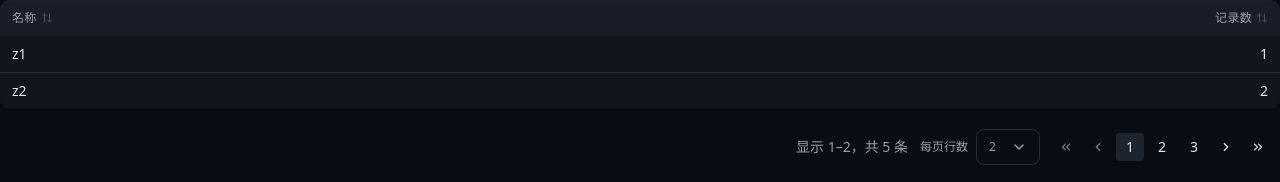
Test: DataTable — client pagination › slices rows locally and flipping the page swaps the visible rows
This screenshot has width=1280, height=182.
Check: the text "z1" is shown, box [0,36,584,72]
Check: the text "z2" is shown, box [0,72,584,109]
Click the button named "下一页": (1226, 147) [1212,133,1240,161]
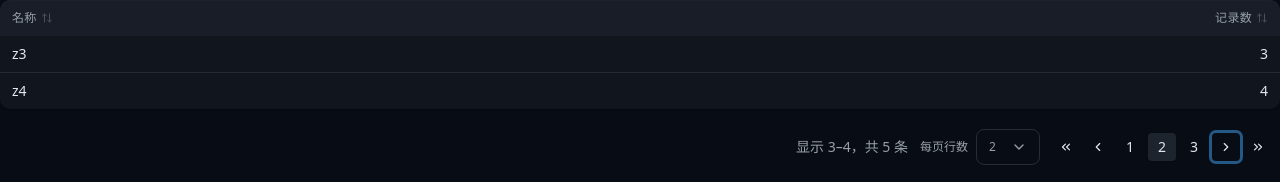
Check: the text "z3" is shown, box [0,36,584,72]
Check: the text "z4" is shown, box [0,72,584,109]
Check: the text "z1" is gone
